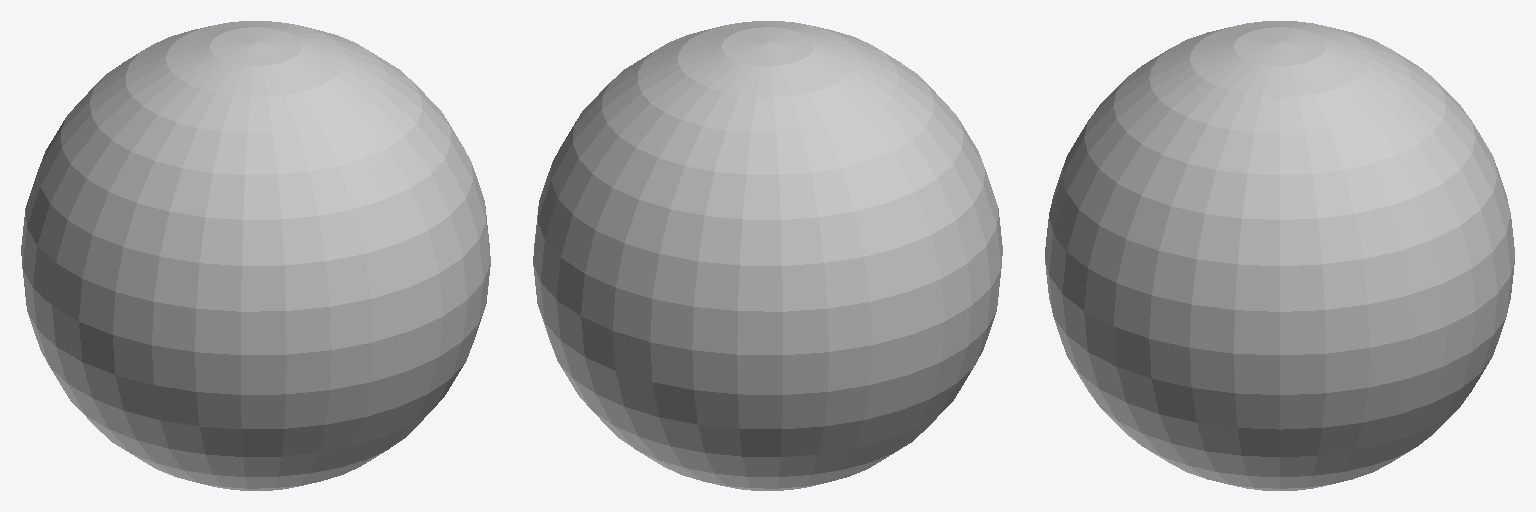
File: 3dBall.obj
3 renders of one model, left to right at view 1: azimuth 30°, elevation 25°; view 2: azimuth 150°, elevation 25°; view 3: azimuth 270°, elevation 25°, orthographic.
Visible parts, largest first — view 1: Sphere.001; view 2: Sphere.001; view 3: Sphere.001.
Boxes of the visible parts, x1,y1,x2,y2 form: Sphere.001: [21, 21, 490, 490]; Sphere.001: [533, 21, 1002, 490]; Sphere.001: [1045, 21, 1514, 490].
Bounding box in the file's own units: 0.846 × 0.846 × 0.846.